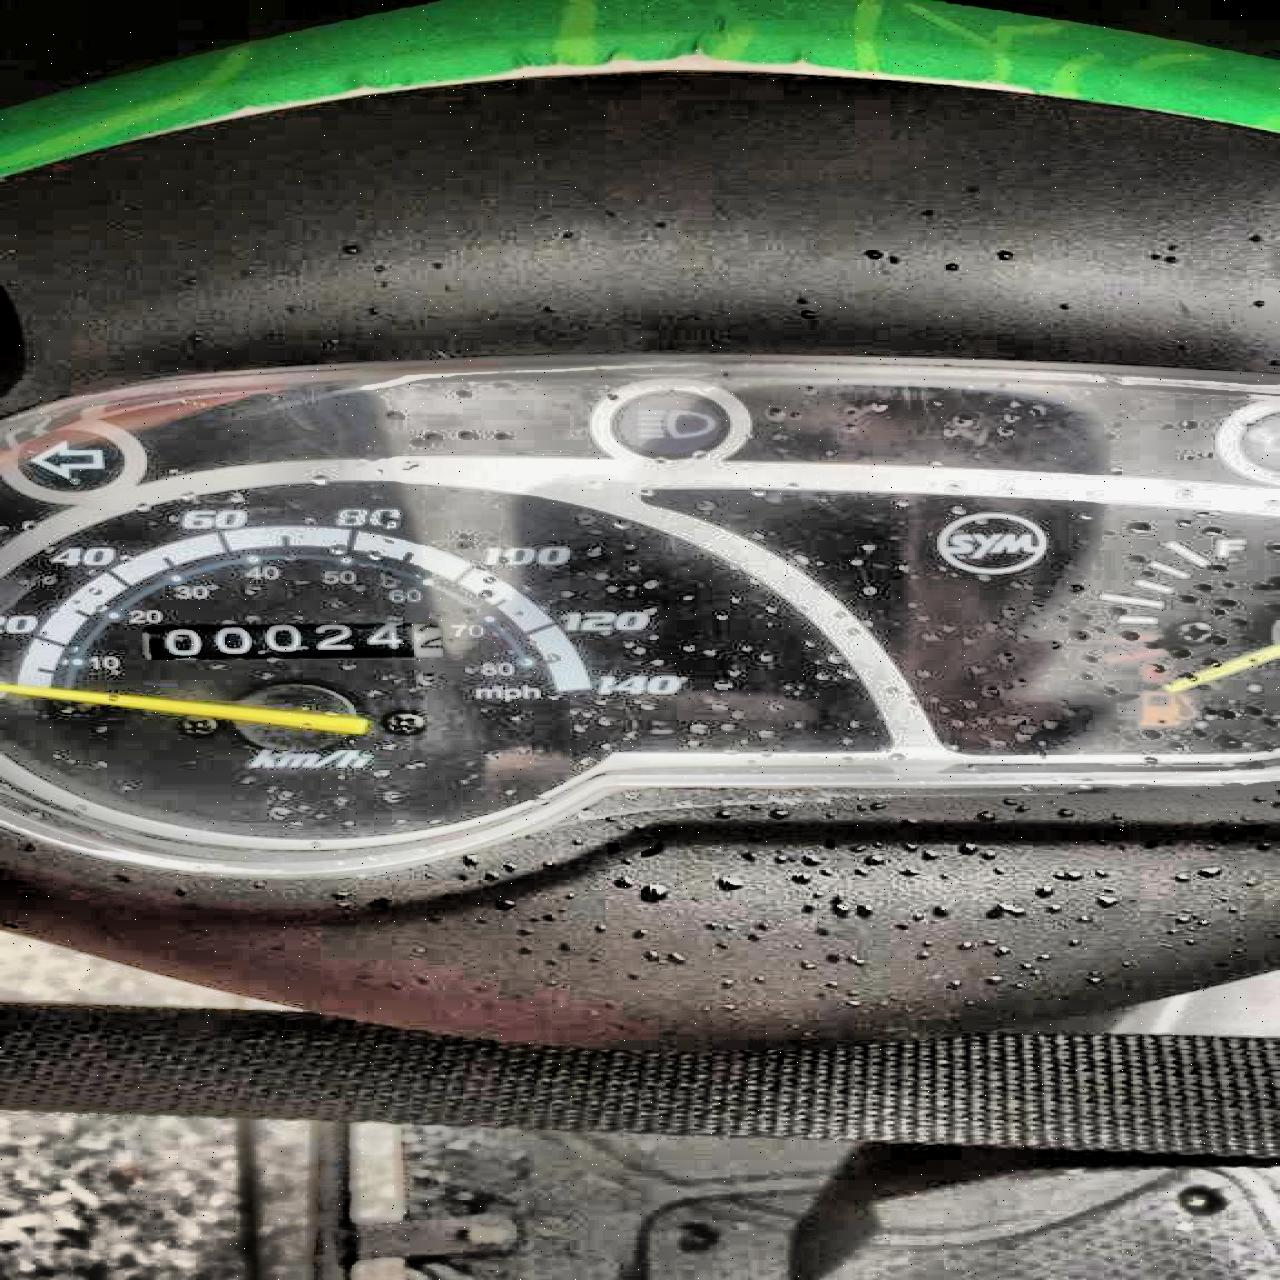0: (260, 622, 302, 653), (211, 625, 252, 655), (161, 627, 203, 656)
2: (312, 622, 352, 653), (414, 624, 448, 651)
4: (362, 624, 406, 648)
odometer: (141, 621, 451, 663)
